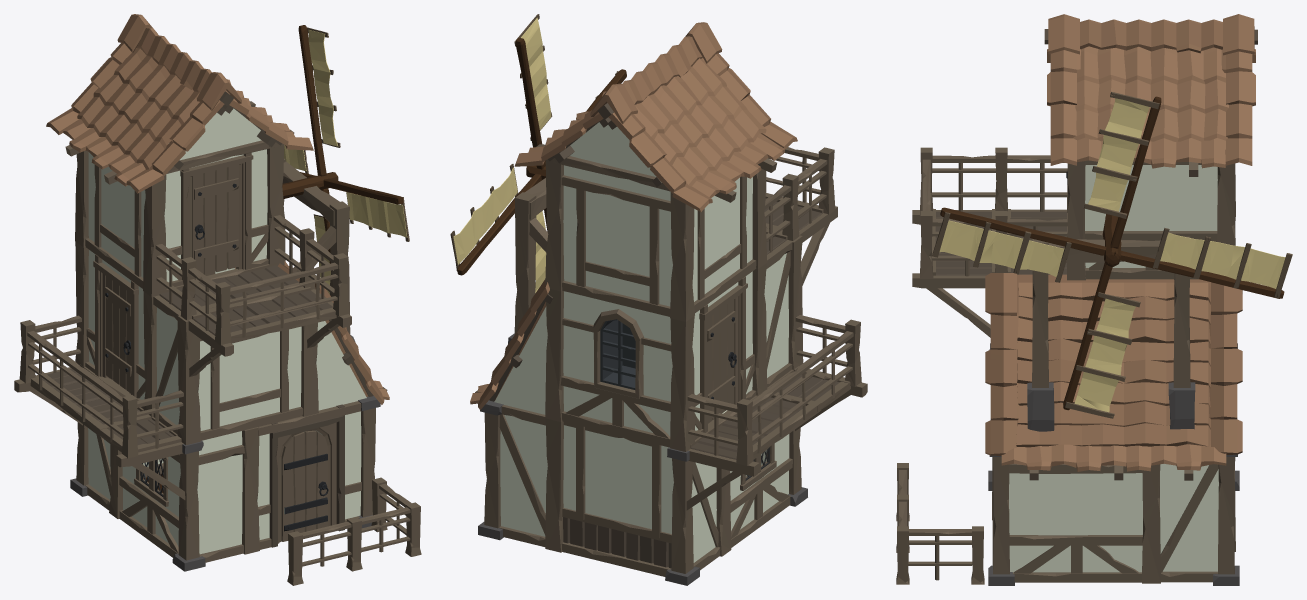
The model's file is Mill.fbx.
3 views of the same model, side by side, from view 1: azimuth 30°, elevation 25°; view 2: azimuth 150°, elevation 25°; view 3: azimuth 270°, elevation 25° (orthographic). The views are drawn at different scales.
Visible parts, largest first — view 1: Mill, MillBlades; view 2: Mill, MillBlades; view 3: Mill, MillBlades.
Boxes of the visible parts, left/top/right/bottom form: Mill: left=14, top=14, right=421, bottom=585; MillBlades: left=282, top=25, right=409, bottom=294; Mill: left=470, top=22, right=867, bottom=585; MillBlades: left=450, top=14, right=626, bottom=292; Mill: left=896, top=14, right=1257, bottom=585; MillBlades: left=932, top=91, right=1292, bottom=418.
Size of the model in its own units: 596 by 924 by 661.
